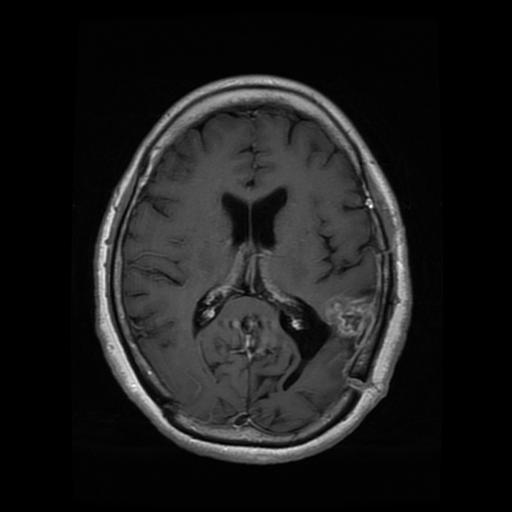Gliomia_tumour: (320, 289, 368, 339)
